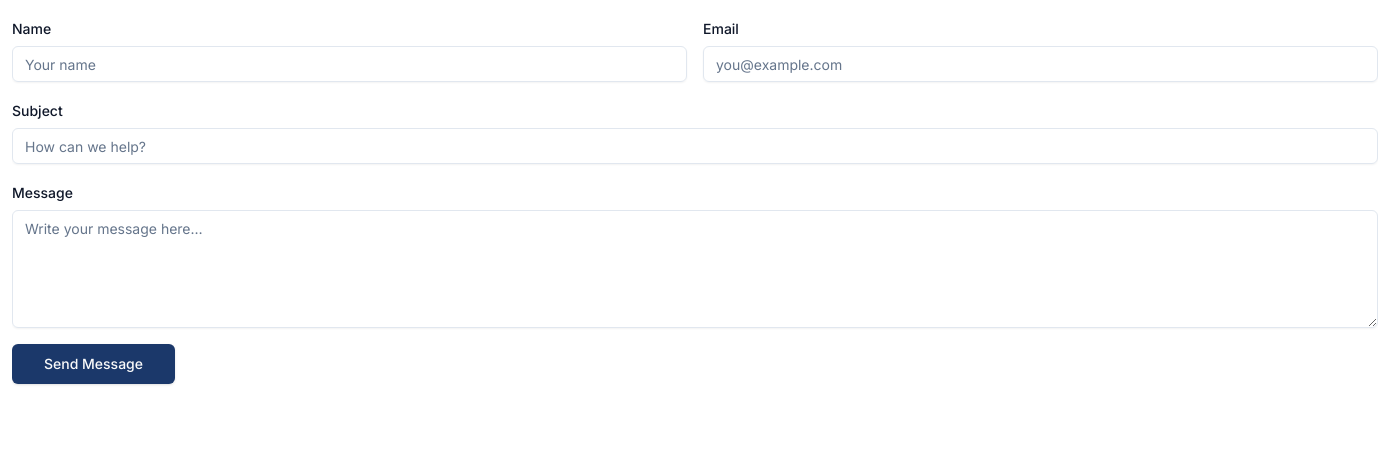
ContactForm › error state › shows error alert when fetch returns ok: false
The width and height of the screenshot is (1390, 464).
Type "John" into the field labelled "Name".
click(350, 64); type("John")  # box [12,46,687,82]
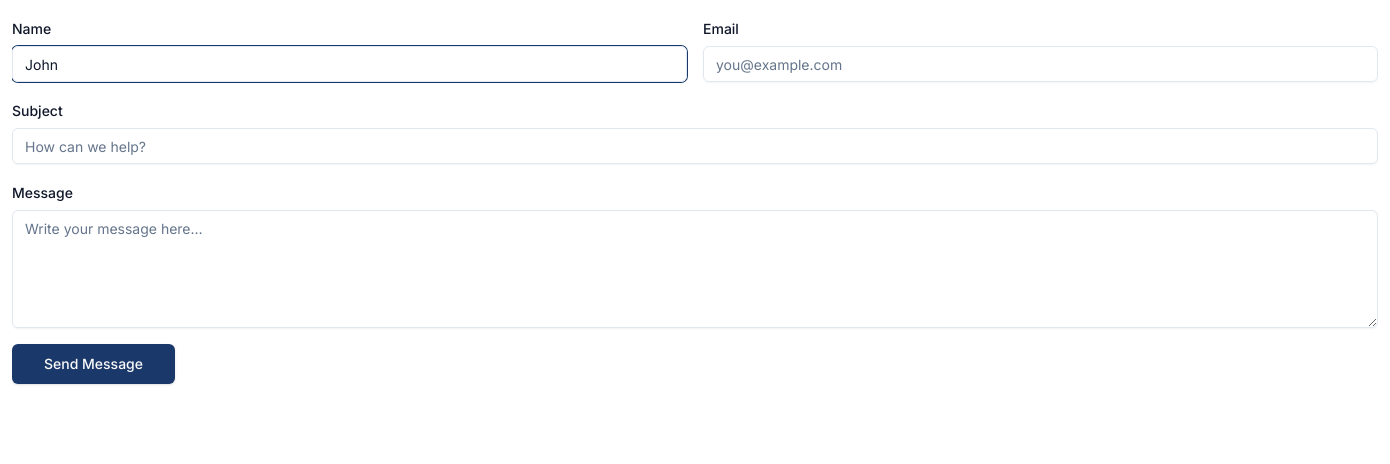
Type "john@example.com" into the field labelled "Email".
click(1040, 64); type("john@example.com")  # box [703,46,1378,82]
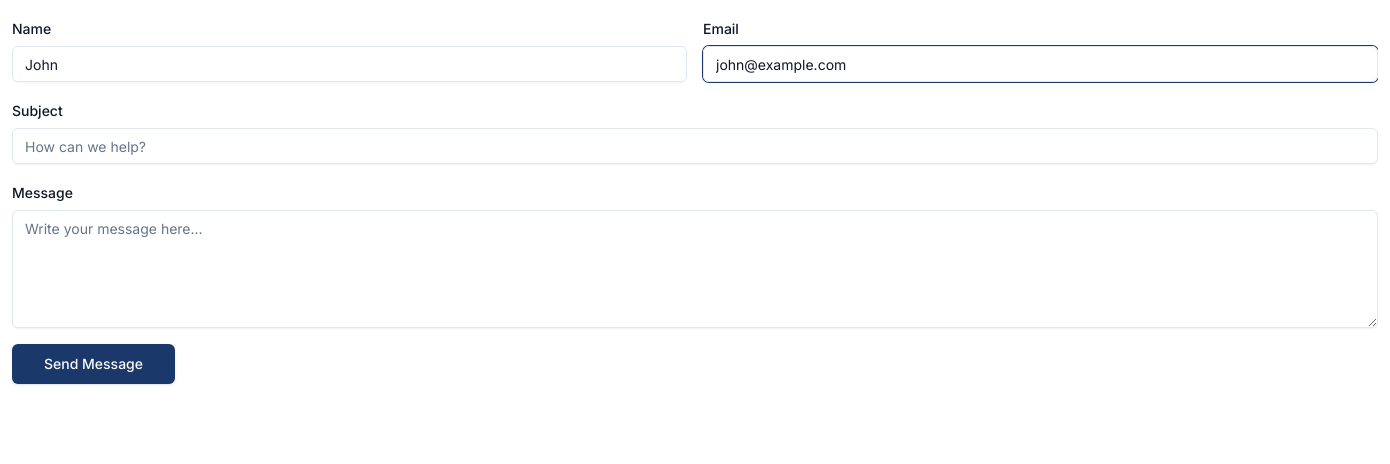
Type "Hello" into the field labelled "Subject".
click(695, 146); type("Hello")  # box [12,128,1378,164]
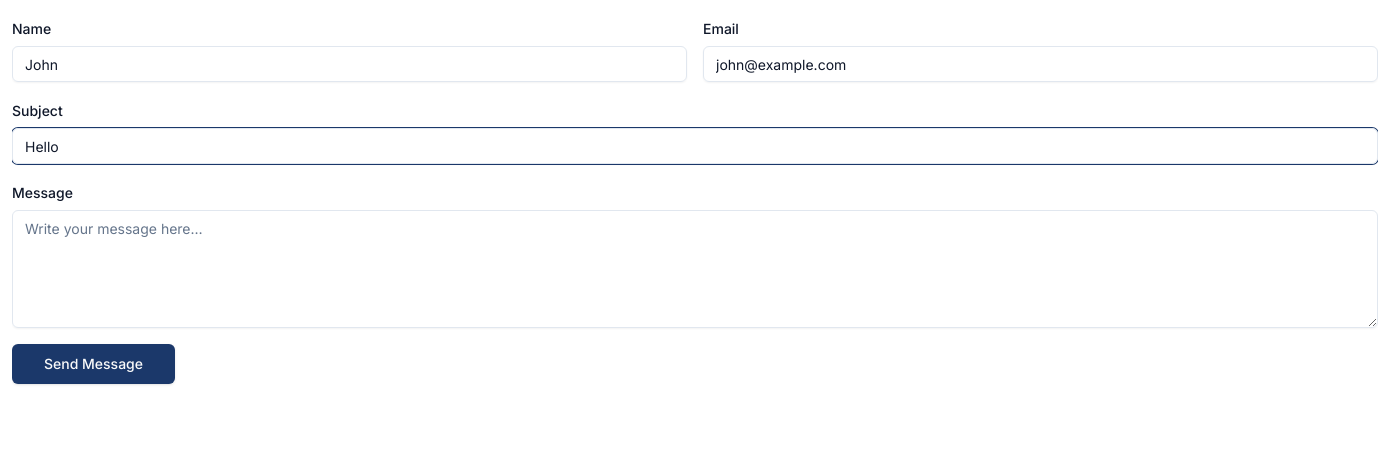
Type "Test" into the text box labelled "Message".
click(695, 269); type("Test")  # box [12,210,1378,328]
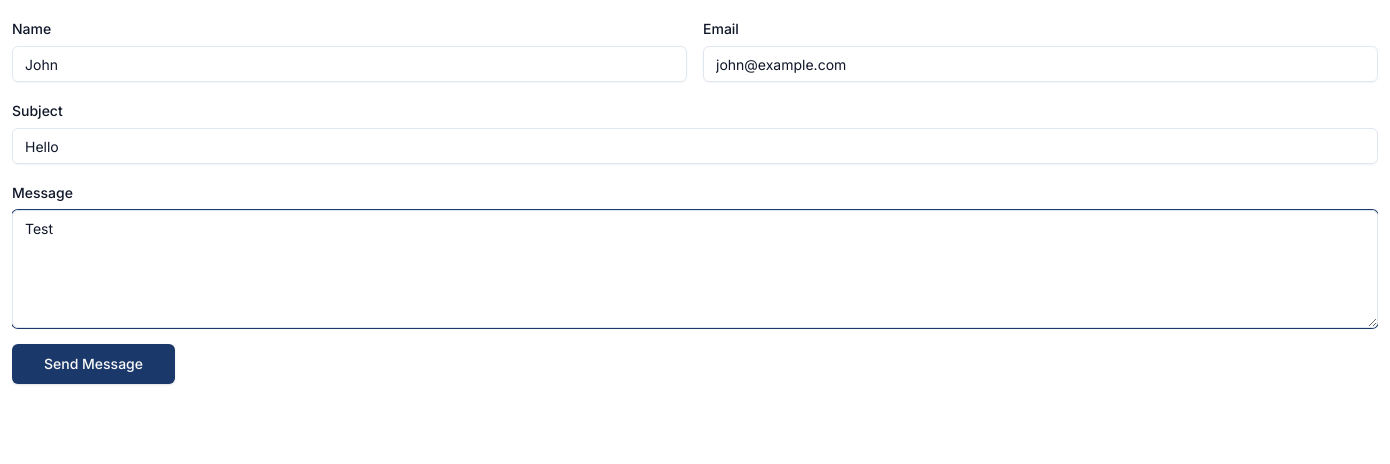
Click the button "Send Message".
click(94, 364)  # box [12,344,175,384]
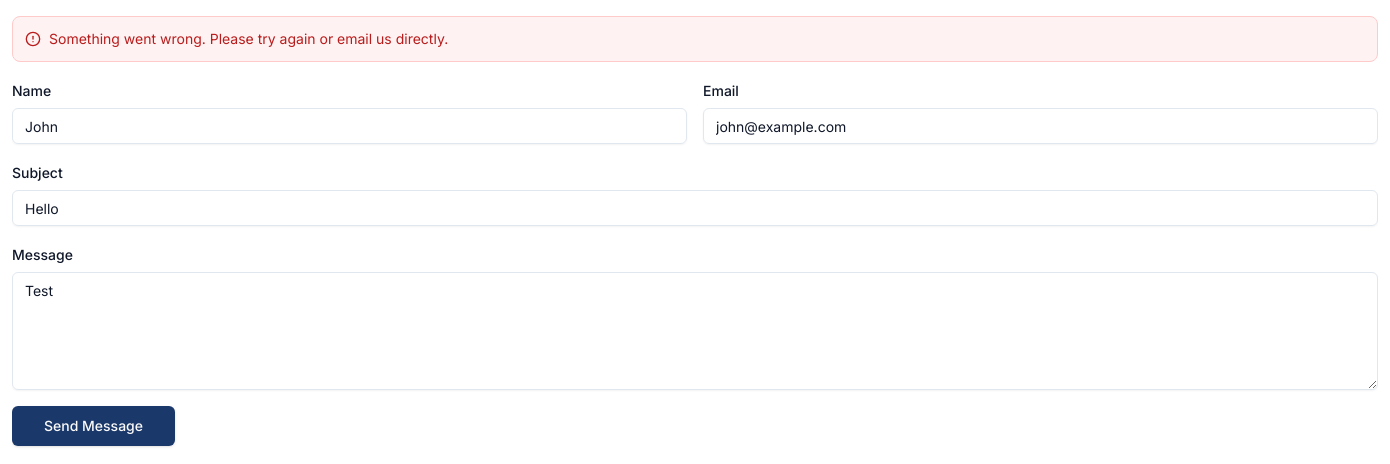
Expected: the text "Something went wrong. Please try again or email us directly." is shown, [12,16,1378,62]
